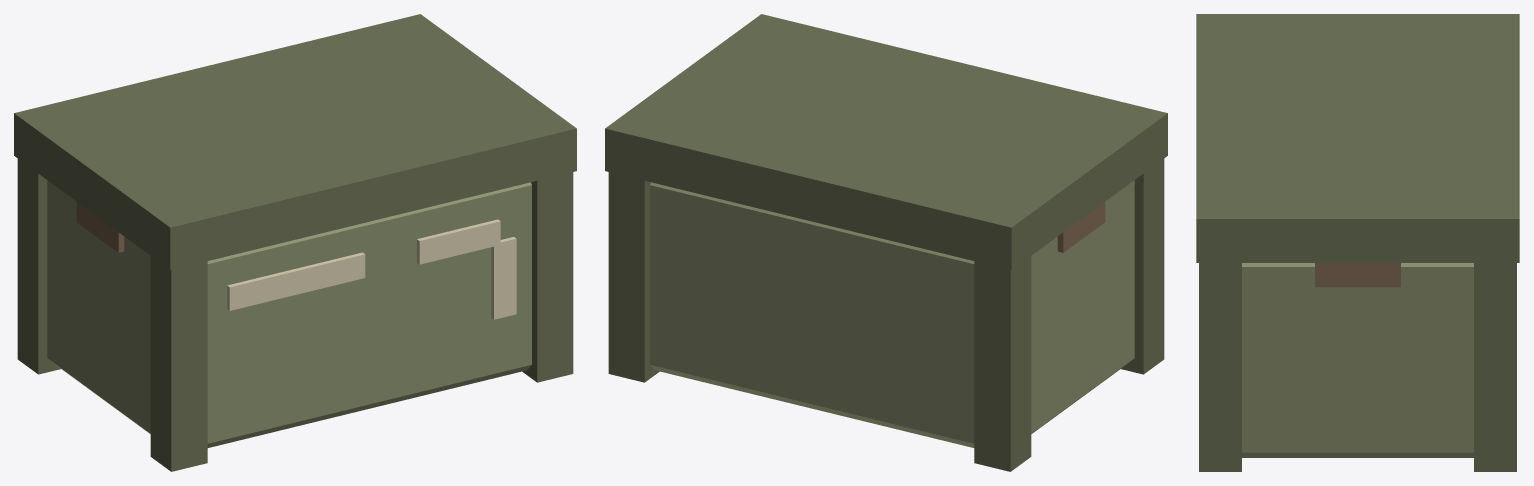
File: ammo_military.glb
3 renders of one model, left to right at view 1: azimuth 30°, elevation 25°; view 2: azimuth 150°, elevation 25°; view 3: azimuth 270°, elevation 25°, orthographic. The views are drawn at different scales.
Parts seen in each view (by area): view 1: body; view 2: body; view 3: body.
Boxes of the visible parts, x1,y1,x2,y2 form: body: (14, 14, 576, 471); body: (605, 14, 1167, 471); body: (1196, 14, 1519, 471).
Bounding box in the file's own units: 0.9 × 0.52 × 0.6.
